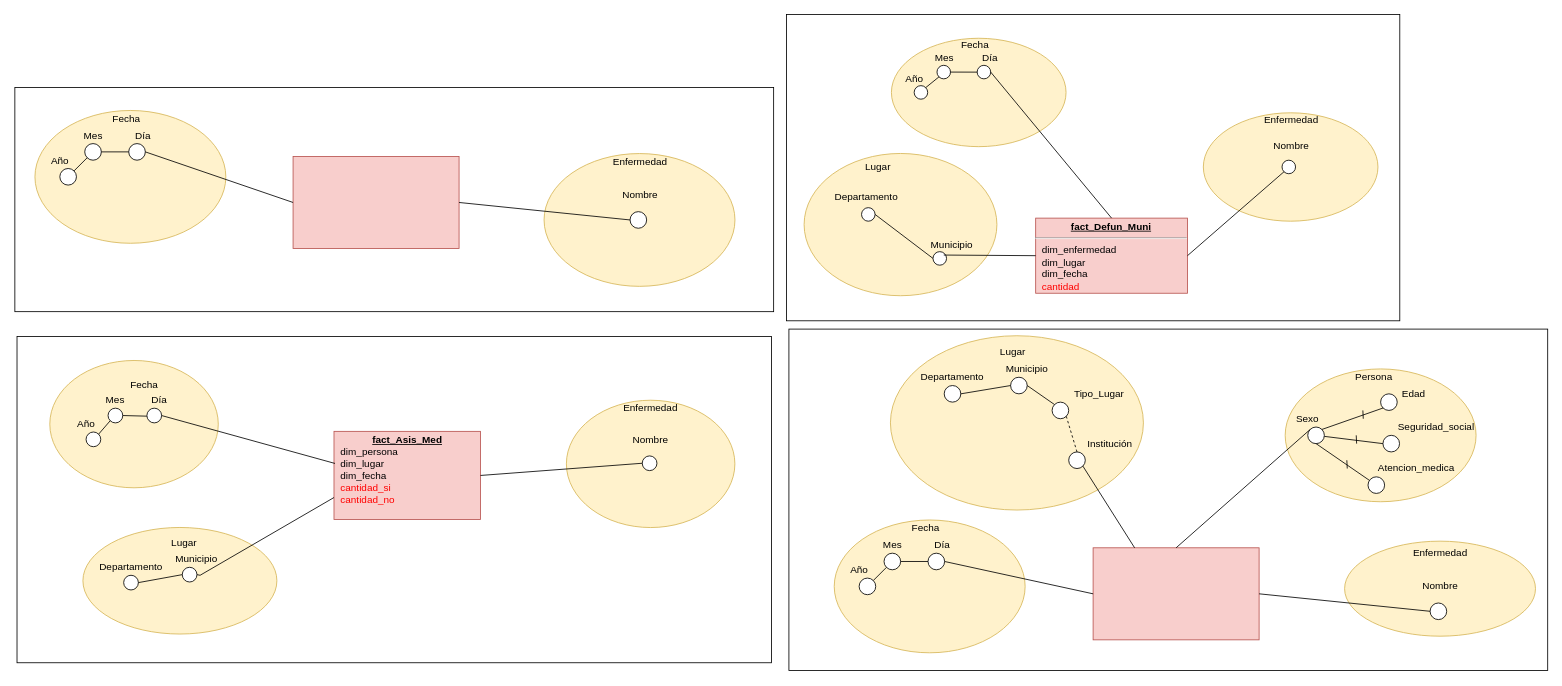
This 1562x686 diagram has some shape labels left out. Here are the shapes that lost their labels. From the top down, the centre of each, then its label:
At [375,202]: "fact_defun_fecha dim_fecha dim_enfermedad cantidad".
At [1175,593]: "fact_defun dim_fecha dim_enfermedad dim_lugar dim_persona".
